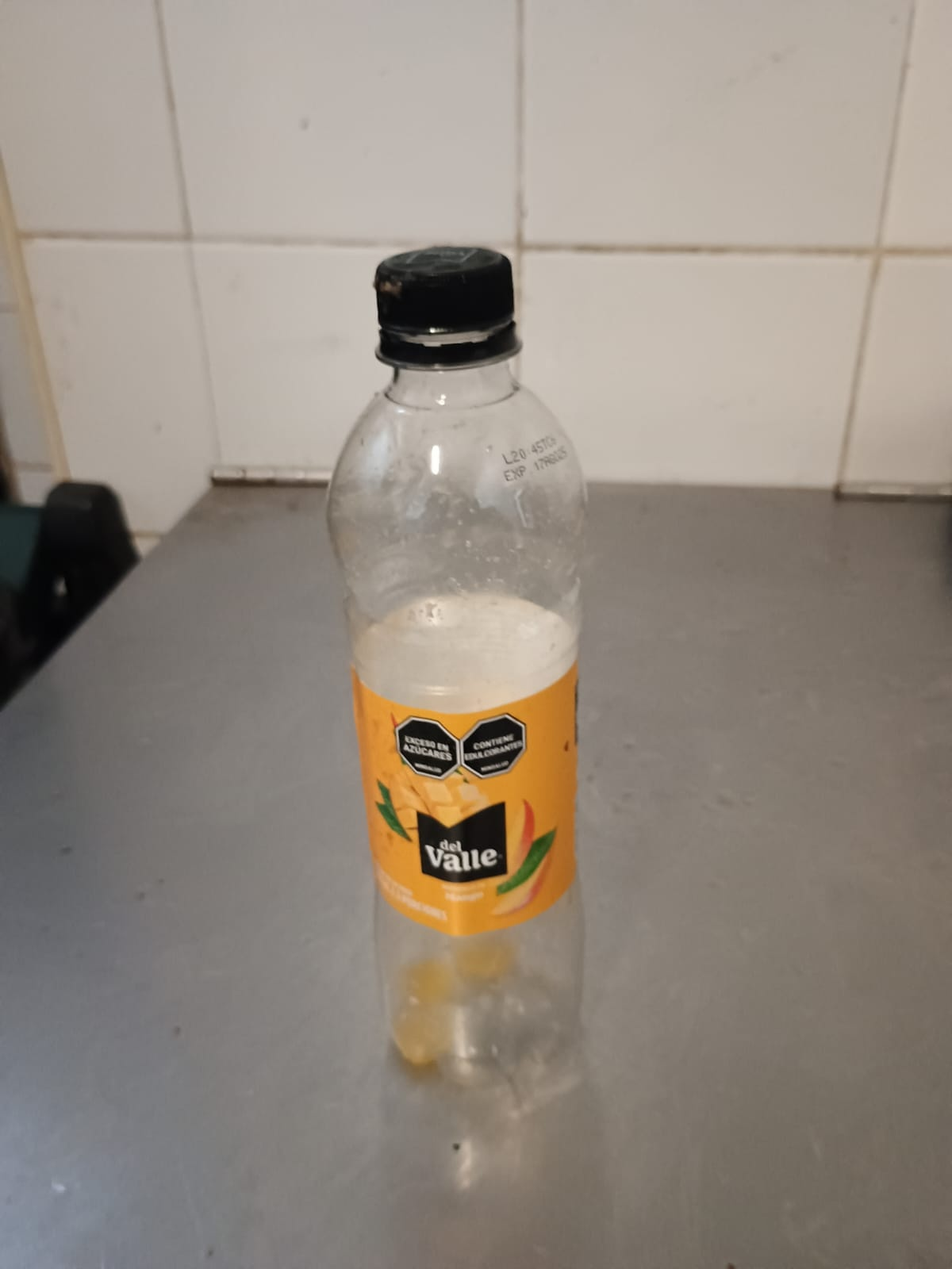Plastico: (328, 248, 588, 1085)
